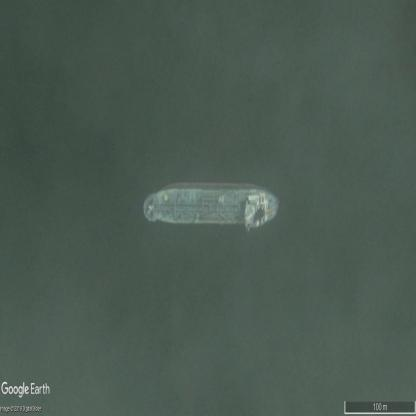ship: (142, 180, 279, 232)
